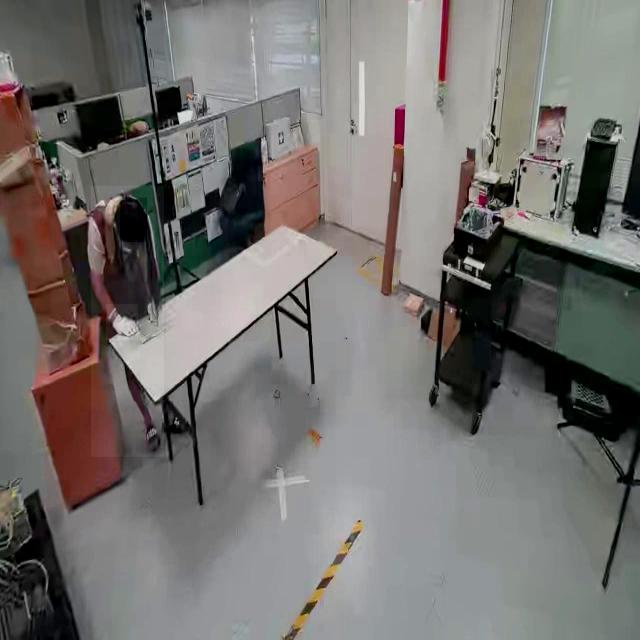hand_glove: (106, 304, 138, 341)
head_nohelmet: (120, 197, 147, 243)
person: (90, 186, 164, 458)
